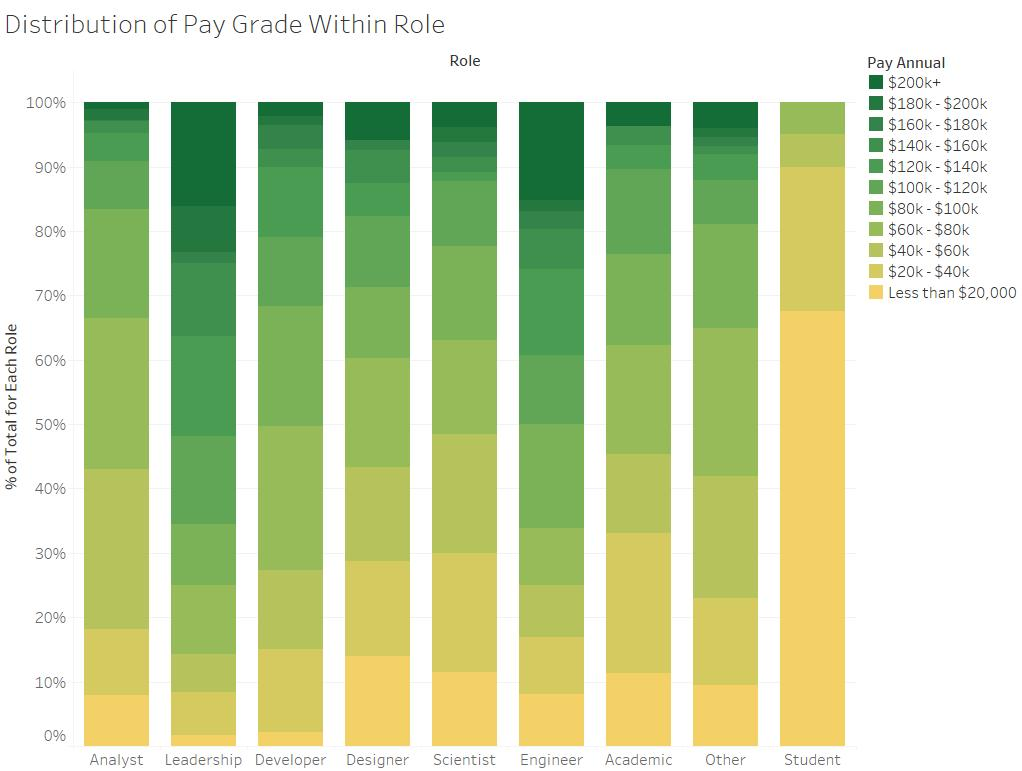

This screenshot's page, from the dashboard's own definition file:
{"tool":"tableau","page":{"name":"Dashboard 1","canvas":[1000,800],"ordinal":0},"visuals":[{"type":"worksheet","title":"Sheet 2","mark":"Automatic","cols":["RoleMultichoice"],"box":[8,8,824,784]},{"type":"legend","title":"Sheet 2","param":"[federated.065012m12chdym10juw4k0op4jla].[none:PayAnnual:nk]","box":[832,8,160,261]}]}

Visuals, with their boxes on the page's 1000x800 design canvas (x1, y1, x2, y2). These are canvas units, not pixel positions in the 1022x771 screenshot, which may show the page scaled, cropped or inside an application window:
"Sheet 2" worksheet: [8, 8, 832, 792]
"Sheet 2" legend: [832, 8, 992, 269]
